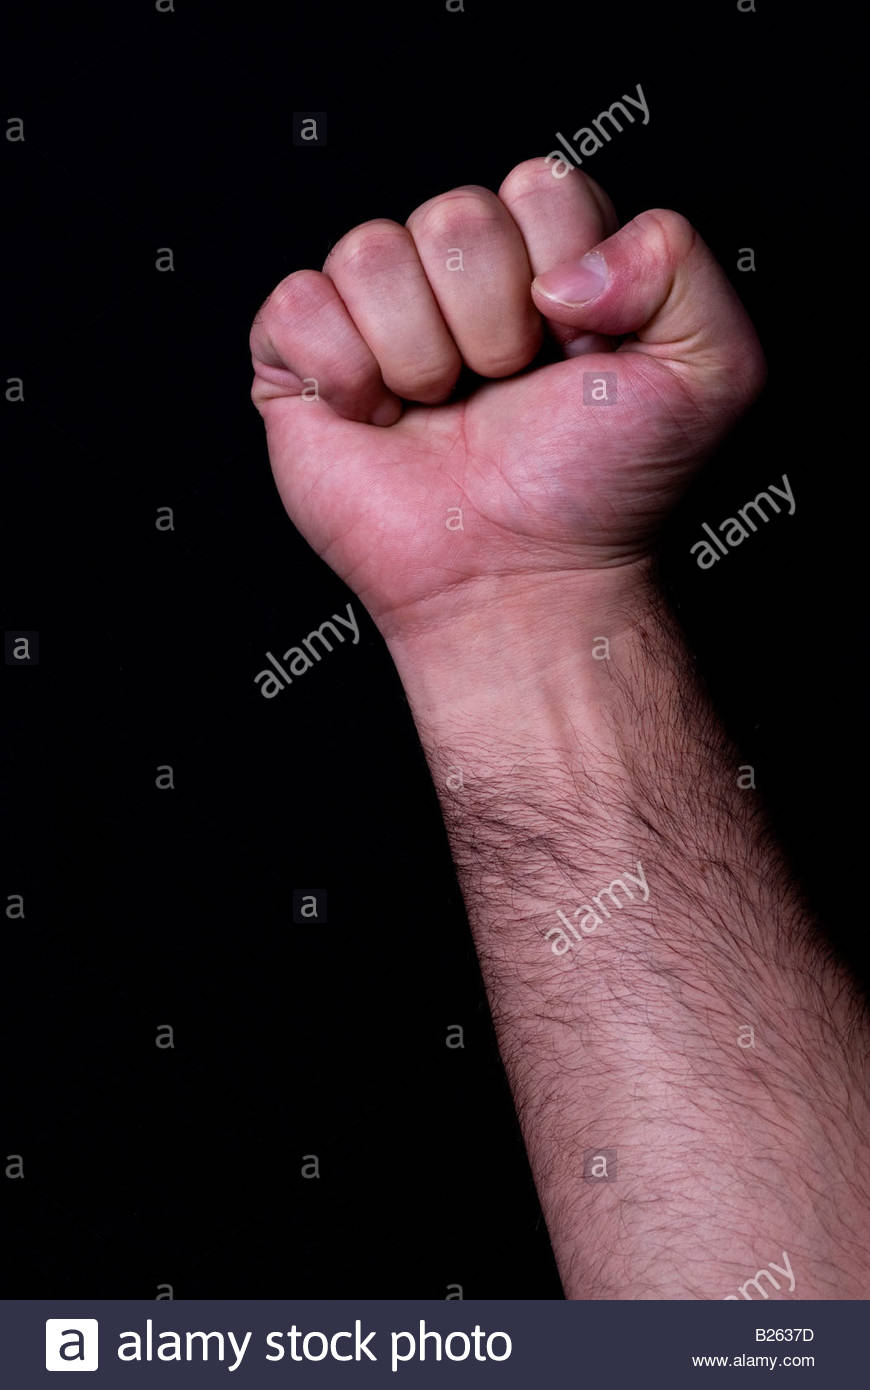fist: (242, 151, 769, 613)
